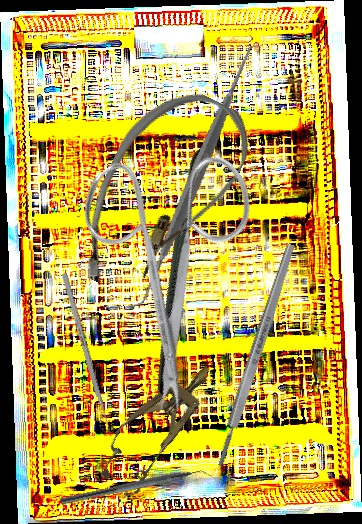Cannula: (61, 71, 264, 318)
Chopper: (59, 462, 217, 516)
Hook Surgical: (47, 126, 297, 395)
Iris Scissors: (20, 105, 333, 421)
Pusher: (61, 272, 115, 442)
Scalpel Handle: (213, 242, 298, 468)
Spatula Surgical: (65, 42, 326, 311)
Speculum: (88, 349, 230, 502)
